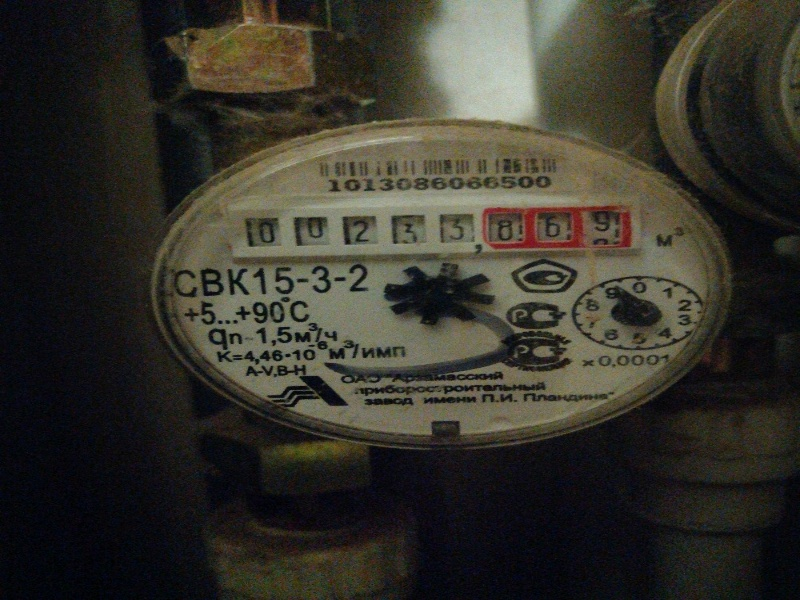meter: (236, 202, 631, 248)
